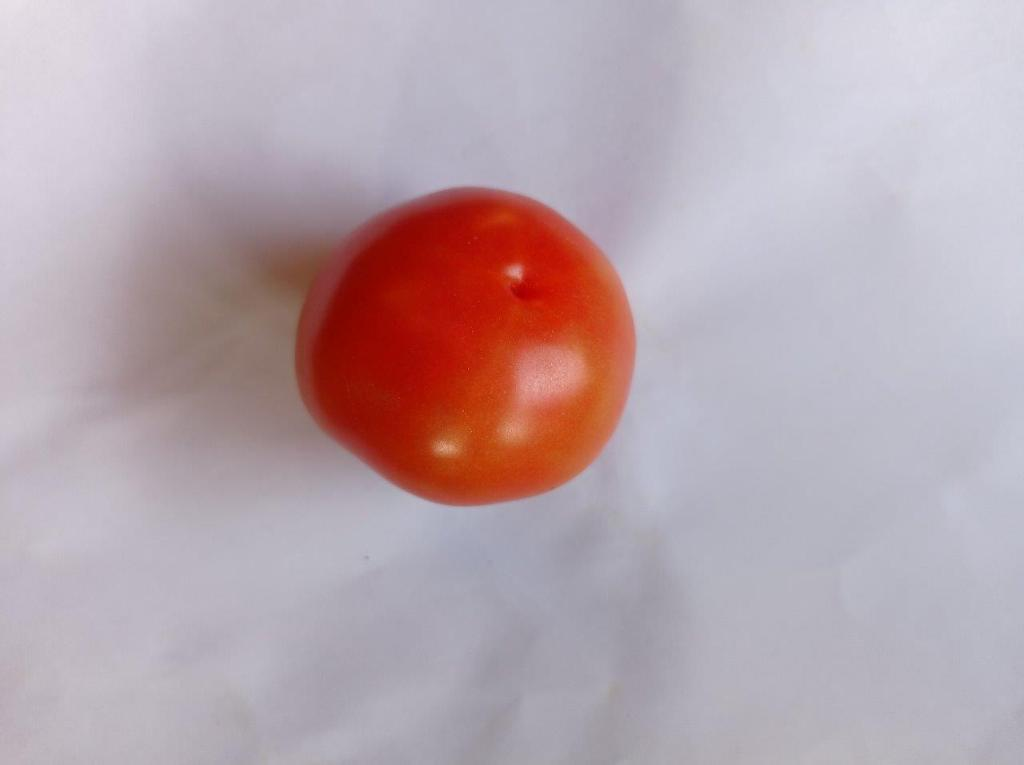tomato: (296, 189, 634, 505)
